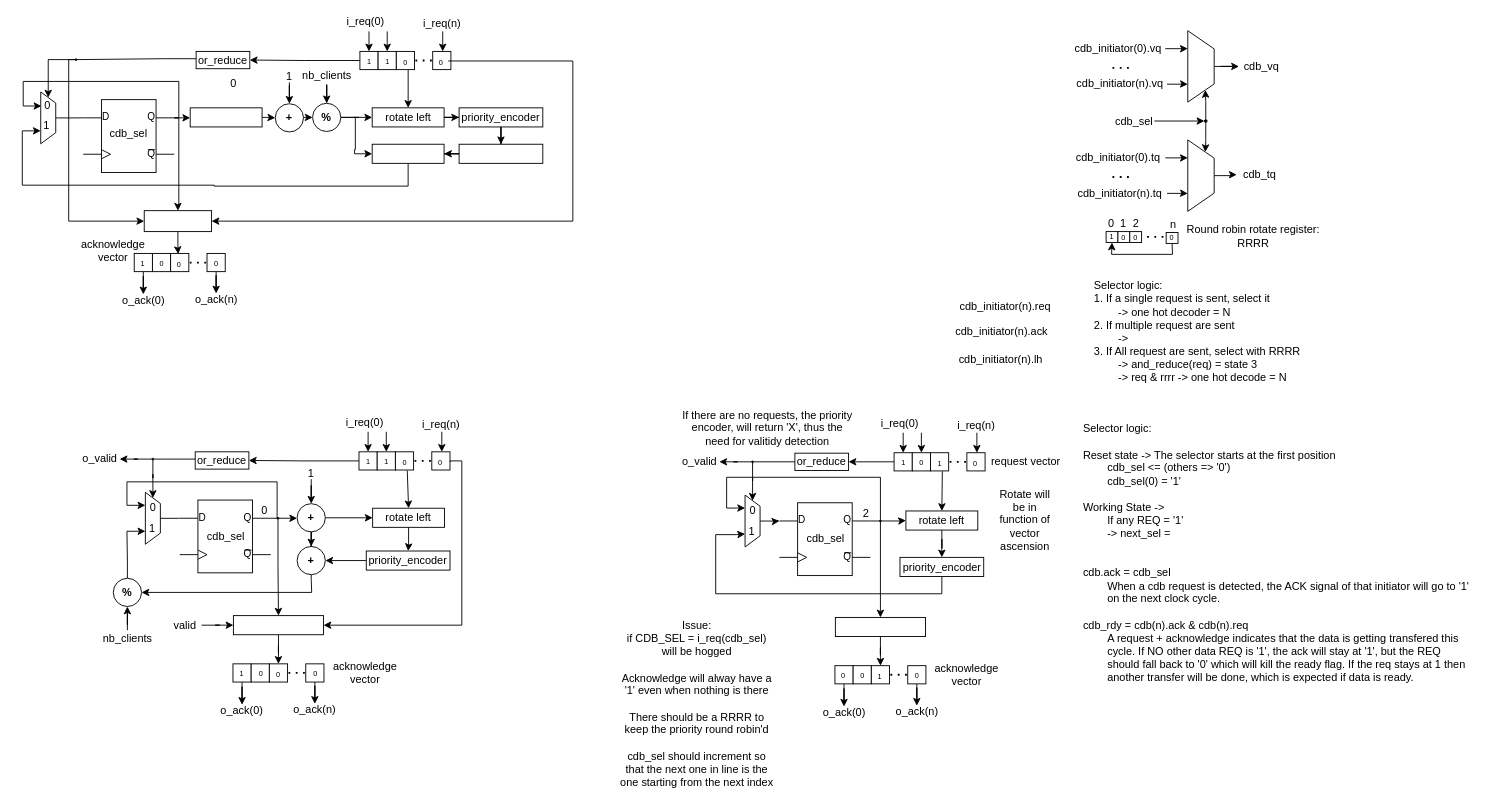
Image size: 1490x808. Some labels were removed from this diagram. Here are the shapes that lost their labels. From the top down, the centre of each, then its label:
the point at 225,117: one_hot_dec
the point at 407,153: rotate right
the point at 500,153: one_hot_enc
the point at 177,221: enable_mask
the point at 278,625: One hot mask
the point at 879,627: one_hot_decoder
